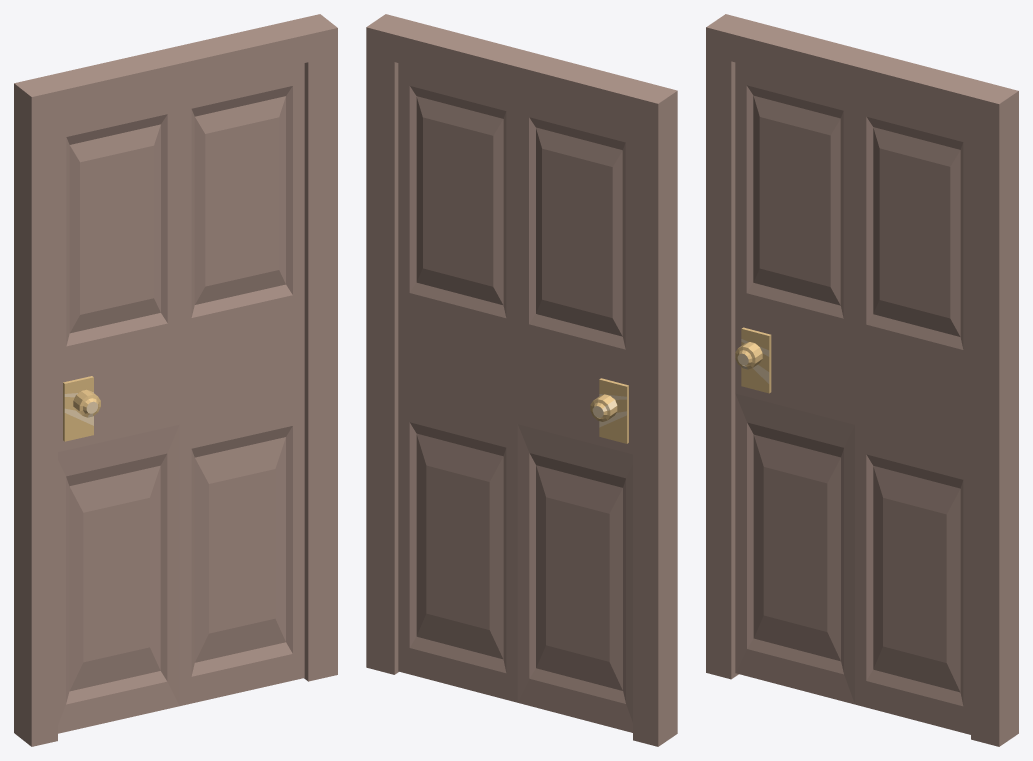
Rendered from door.glb.
3 renders of one model, left to right at view 1: azimuth 30°, elevation 25°; view 2: azimuth 150°, elevation 25°; view 3: azimuth 330°, elevation 25°, orthographic.
Parts seen in each view (by area): view 1: group1559002970, group1708765680; view 2: group1559002970, group1708765680; view 3: group1559002970, group1708765680.
Part boxes in pixels (left/top/right/bottom): group1559002970: left=58, top=63, right=304, bottom=733; group1708765680: left=14, top=14, right=337, bottom=746; group1559002970: left=398, top=63, right=632, bottom=732; group1708765680: left=366, top=14, right=677, bottom=746; group1559002970: left=735, top=62, right=970, bottom=734; group1708765680: left=706, top=14, right=1018, bottom=746.
Size of the model in its own units: 0.9327 by 1.92 by 0.2197.
